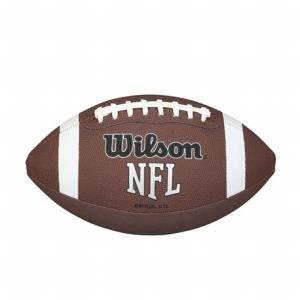Rugby: (24, 94, 277, 236)
